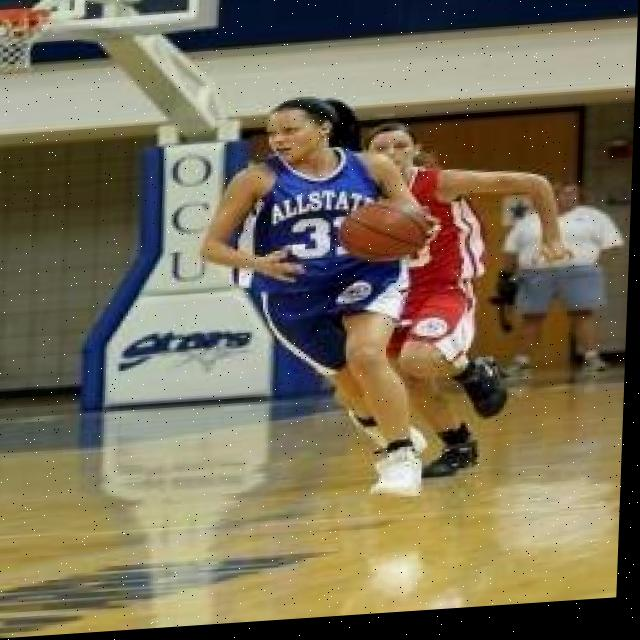basketball: (334, 197, 434, 268)
hoop: (0, 3, 57, 75)
